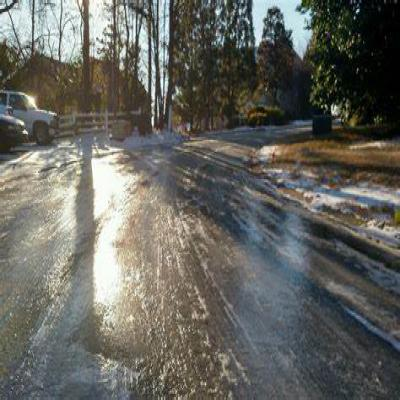iced-road: (0, 125, 400, 399)
